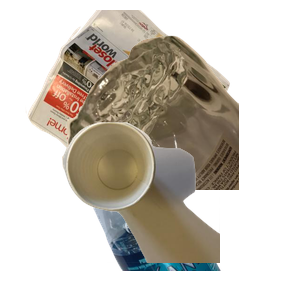glass: (60, 33, 300, 213)
paper: (23, 10, 245, 190)
plastic: (71, 120, 300, 300)
trash: (60, 120, 300, 300)
